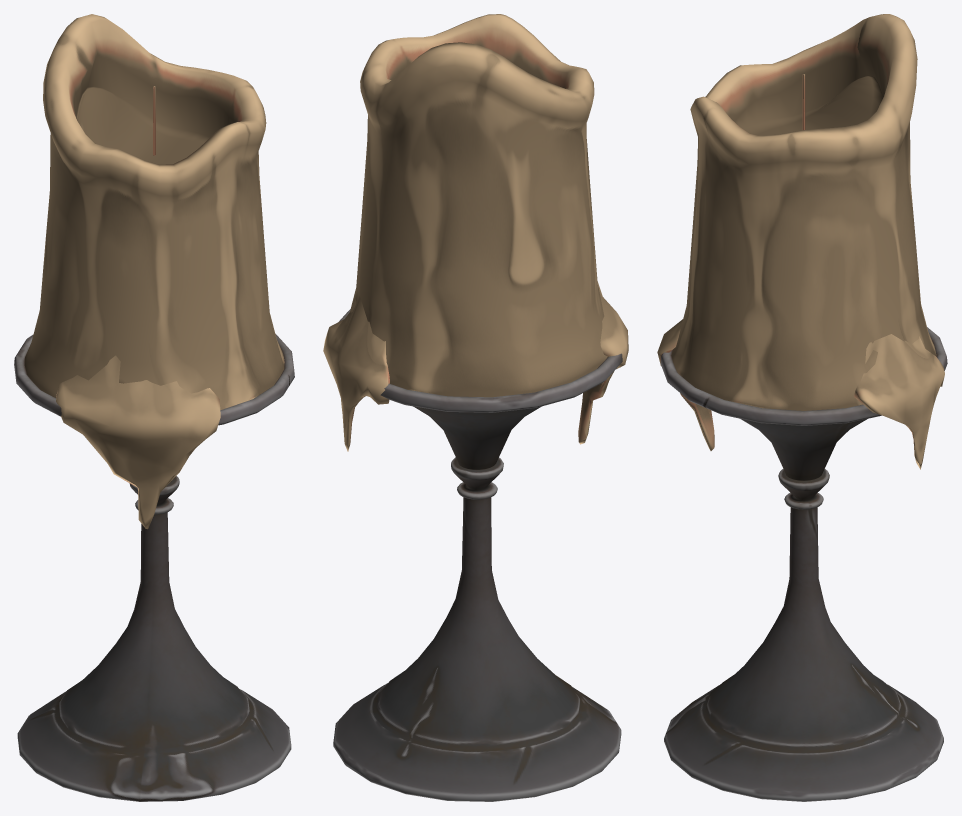
The model's file is SM_Candle.fbx.
3 views of the same model, side by side, from view 1: azimuth 30°, elevation 25°; view 2: azimuth 150°, elevation 25°; view 3: azimuth 270°, elevation 25° (orthographic). The views are drawn at different scales.
Visible parts, largest first — view 1: SM_Candle_LOD0; view 2: SM_Candle_LOD0; view 3: SM_Candle_LOD0.
Boxes of the visible parts, x1,y1,x2,y2 form: SM_Candle_LOD0: [14, 14, 294, 801]; SM_Candle_LOD0: [323, 14, 628, 801]; SM_Candle_LOD0: [657, 14, 947, 801].
Size of what is drawn, in the model's own units: 0.163 by 0.4462 by 0.1647.
